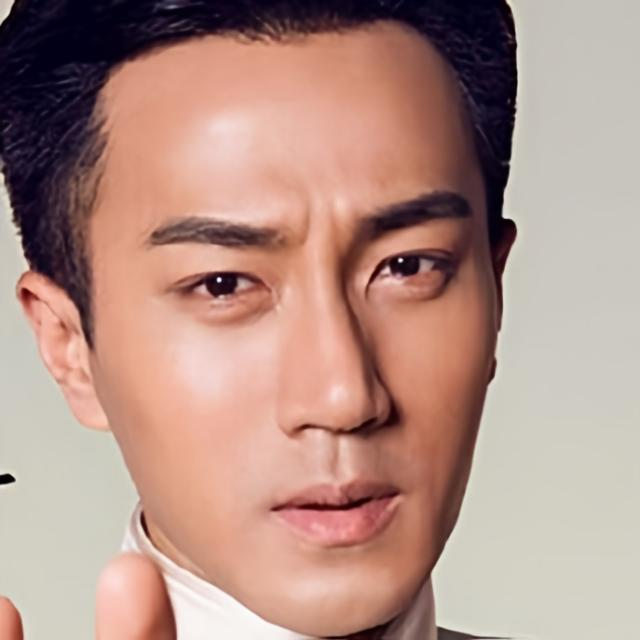sad: (86, 24, 498, 640)
